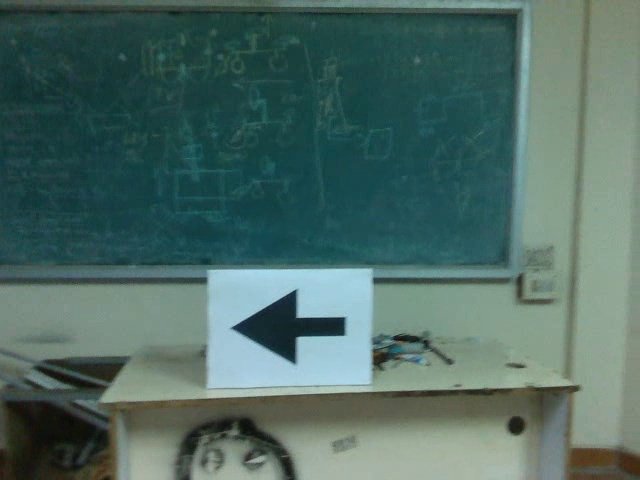Left: (223, 282, 353, 373)
